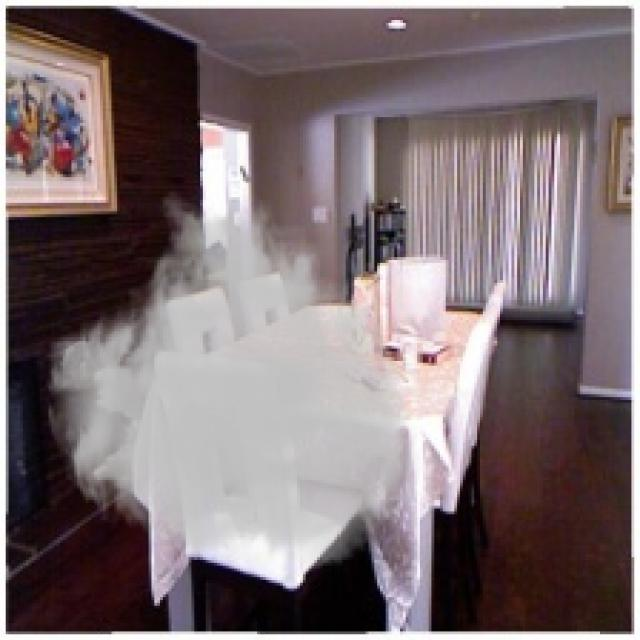smoke: (43, 189, 423, 574)
